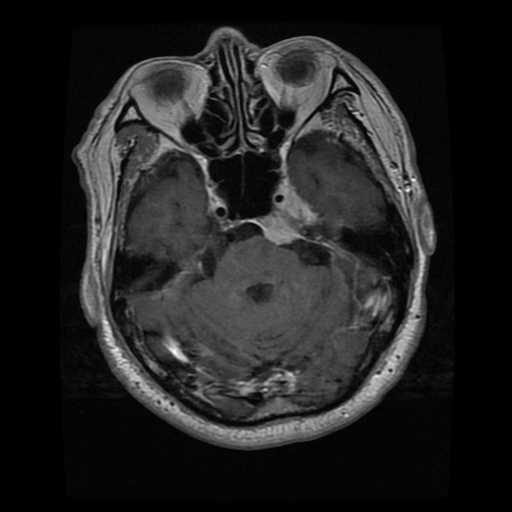meningioma: (258, 183, 315, 244)
